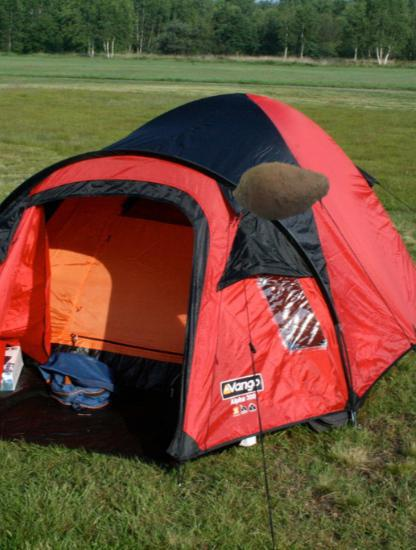Potato: (231, 140, 333, 242)
